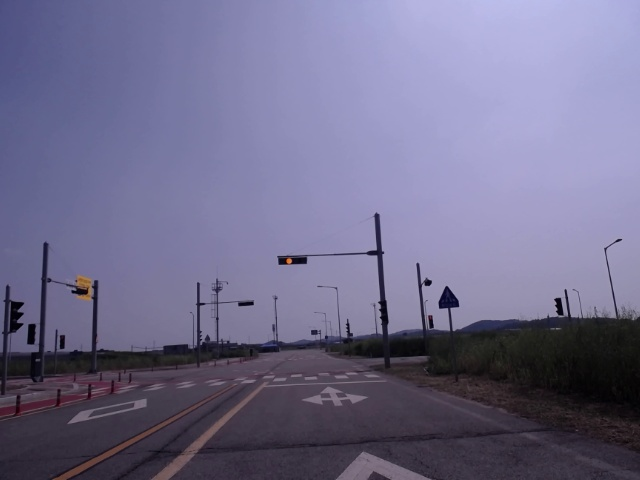orange_4: (278, 255, 307, 266)
